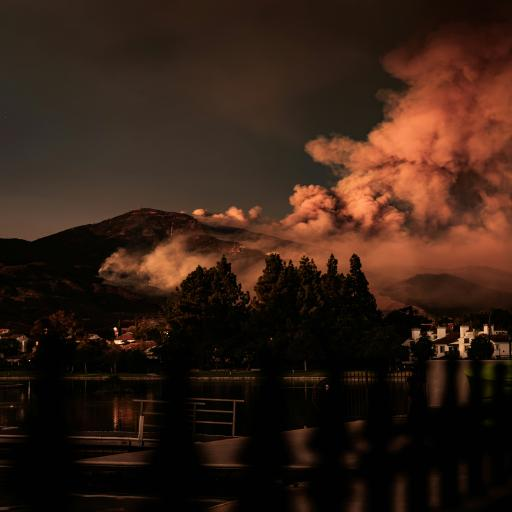smoke: (283, 7, 512, 248)
